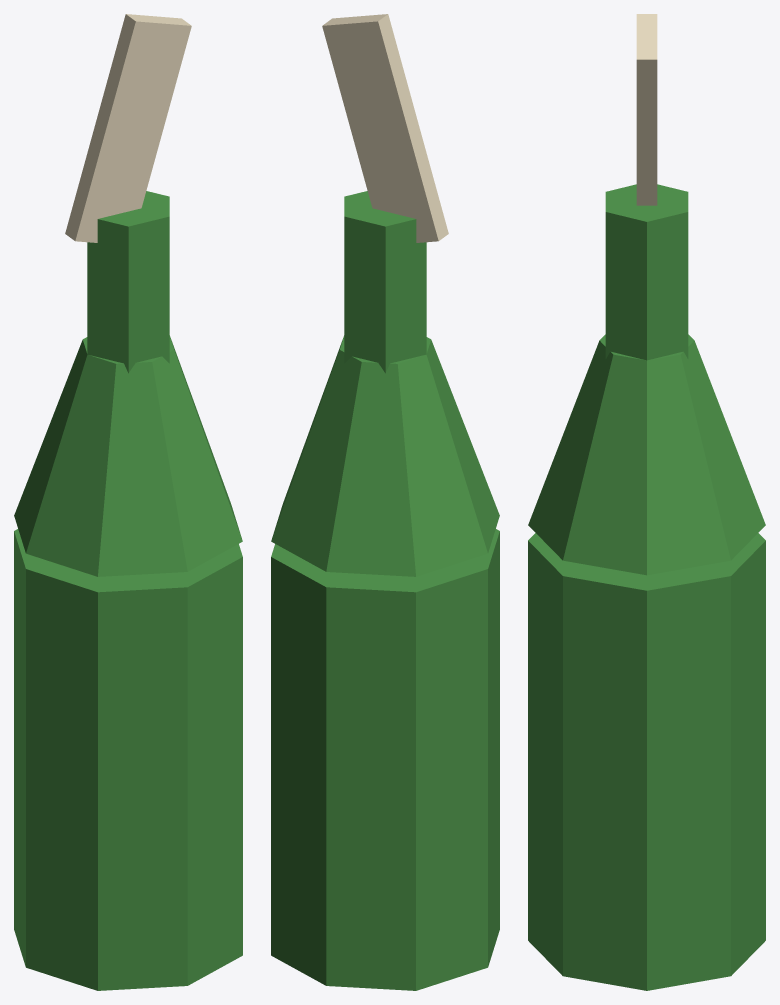
File: w_molotov.glb
3 renders of one model, left to right at view 1: azimuth 30°, elevation 25°; view 2: azimuth 150°, elevation 25°; view 3: azimuth 270°, elevation 25°, orthographic.
Parts seen in each view (by area): view 1: w_molotov; view 2: w_molotov; view 3: w_molotov.
Part boxes in pixels (x1=…): w_molotov: x1=14, y1=14, x2=242, y2=990; w_molotov: x1=271, y1=14, x2=499, y2=990; w_molotov: x1=528, y1=14, x2=765, y2=990.
Size of the model in its own units: 0.07 by 0.3014 by 0.07.
